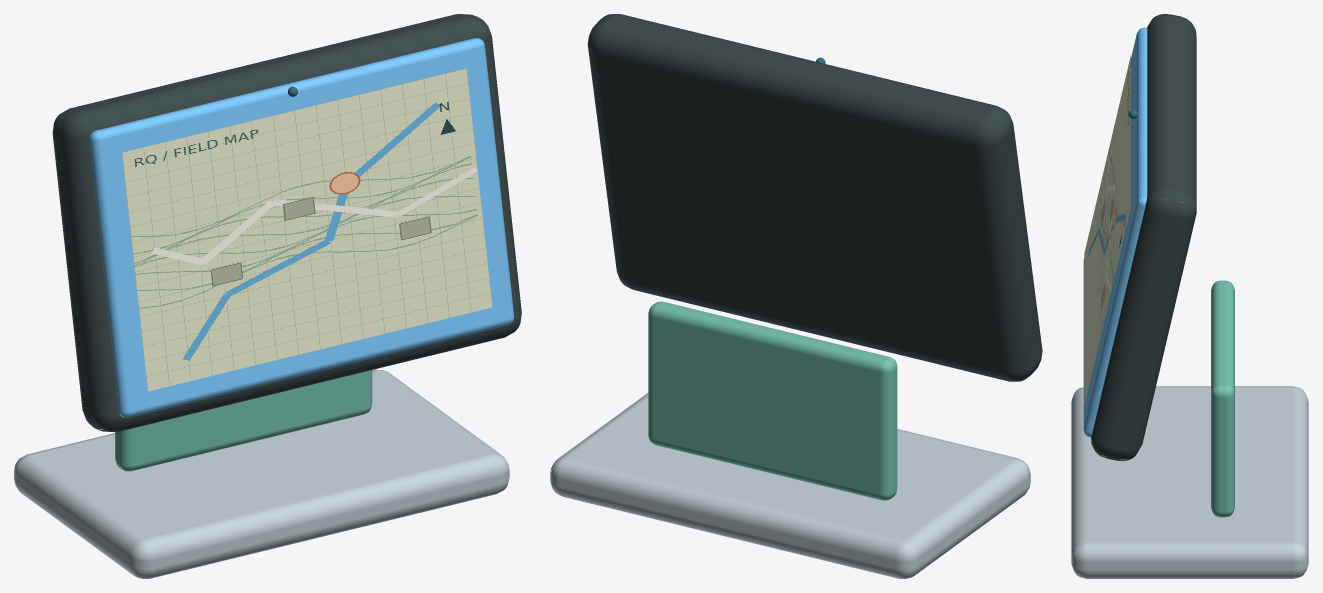
Rendered from rugged_tablet.glb.
3 views of the same model, side by side, from view 1: azimuth 30°, elevation 25°; view 2: azimuth 150°, elevation 25°; view 3: azimuth 270°, elevation 25° (orthographic). The views are drawn at different scales.
Visible parts, largest first — view 1: Tablet_Screen, Stand_Base, Front_Surround, Rugged_Frame, Kickstand; view 2: Rugged_Frame, Stand_Base, Kickstand; view 3: Stand_Base, Rugged_Frame, Tablet_Screen, Front_Surround, Kickstand.
Boxes of the visible parts, x1,y1,x2,y2 form: Tablet_Screen: [122, 68, 492, 391]; Stand_Base: [14, 369, 509, 578]; Front_Surround: [89, 38, 514, 417]; Rugged_Frame: [52, 14, 521, 431]; Kickstand: [115, 370, 372, 471]; Rugged_Frame: [587, 14, 1042, 381]; Stand_Base: [550, 393, 1030, 578]; Kickstand: [648, 301, 897, 500]; Stand_Base: [1071, 386, 1308, 578]; Rugged_Frame: [1091, 14, 1196, 460]; Tablet_Screen: [1084, 55, 1130, 405]; Front_Surround: [1083, 27, 1147, 437]; Kickstand: [1211, 280, 1234, 517].
Size of the model in its own units: 0.34 by 0.3335 by 0.18.
6 materials, 1 textured.
